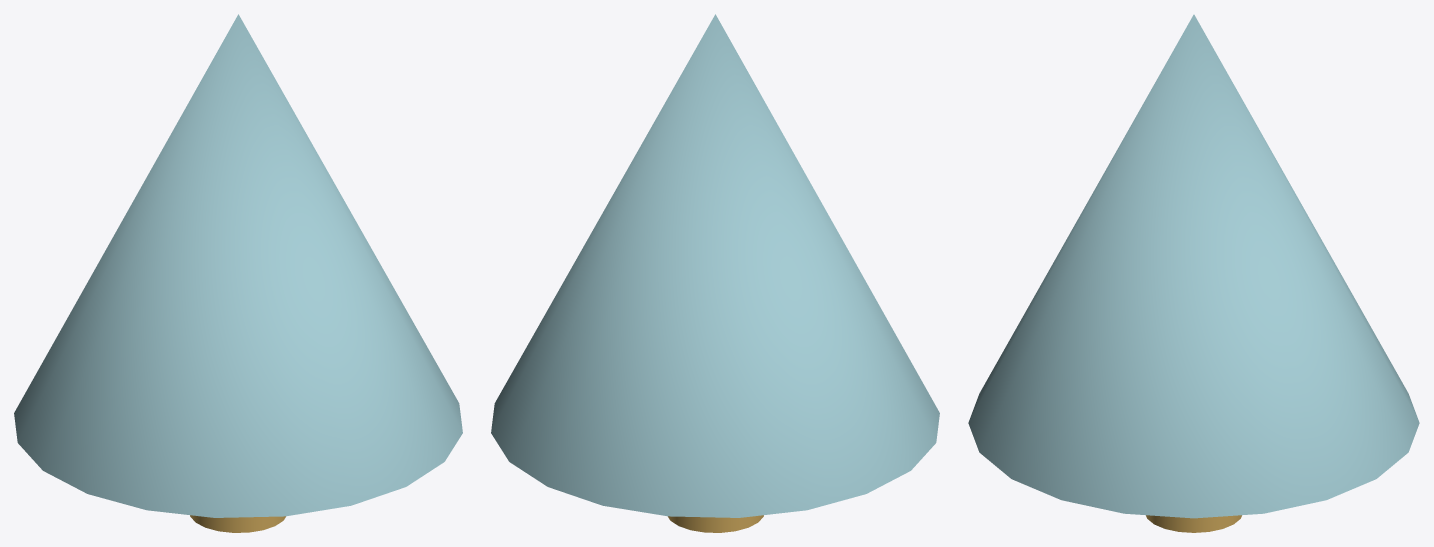
File: cone_azul.fbx
The picture shows the model from 3 angles, left to right: view 1: azimuth 30°, elevation 25°; view 2: azimuth 150°, elevation 25°; view 3: azimuth 270°, elevation 25°; orthographic projection.
Parts seen in each view (by area): view 1: pCone4, arvore19; view 2: pCone4, arvore19; view 3: pCone4, arvore19.
Part boxes in pixels (bbox=[...]): pCone4: bbox=[14, 14, 462, 517]; arvore19: bbox=[190, 515, 285, 532]; pCone4: bbox=[491, 14, 939, 517]; arvore19: bbox=[668, 515, 763, 532]; pCone4: bbox=[968, 14, 1419, 518]; arvore19: bbox=[1146, 515, 1241, 532].
Size of the model in its own units: 2.39 by 2.91 by 2.39.
